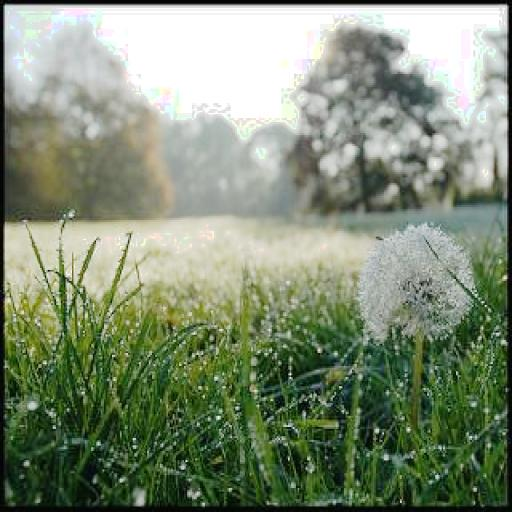dandelion: (357, 220, 475, 340)
